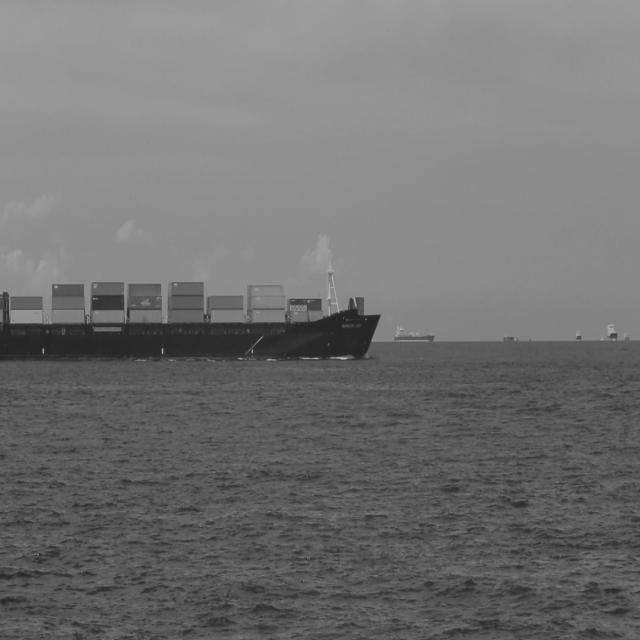ship: (0, 248, 383, 362), (394, 316, 438, 342)
